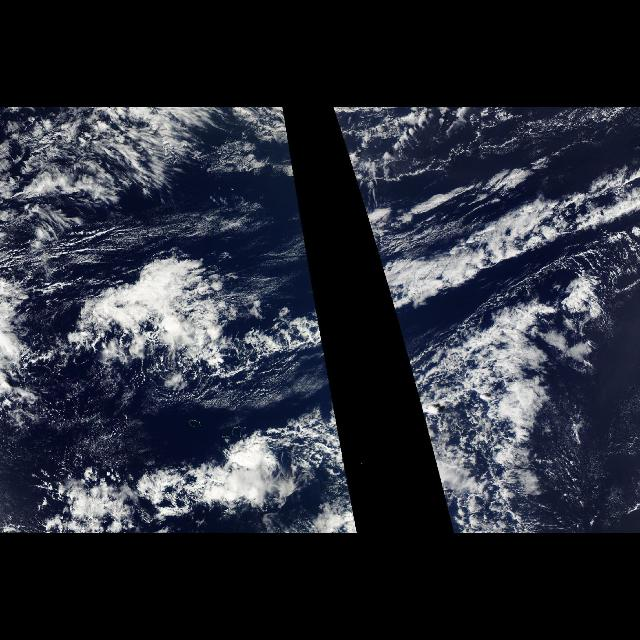Fish: (21, 237, 306, 381)
